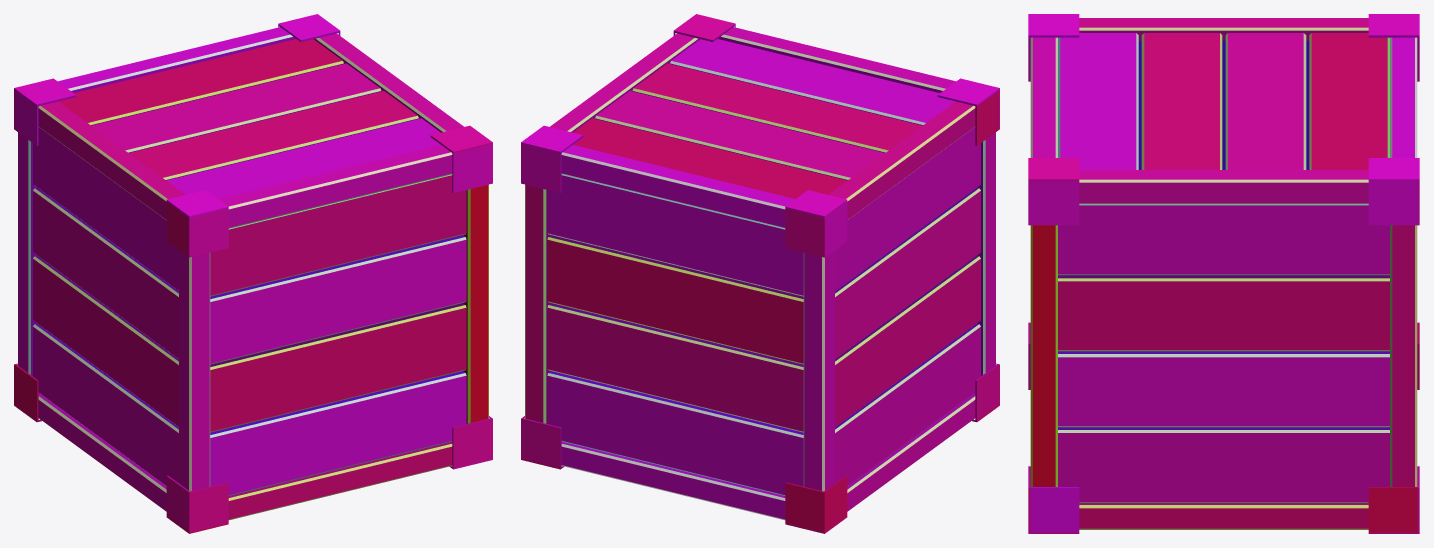
File: crate.glb
3 renders of one model, left to right at view 1: azimuth 30°, elevation 25°; view 2: azimuth 150°, elevation 25°; view 3: azimuth 270°, elevation 25°, orthographic. The views are drawn at different scales.
Parts seen in each view (by area): view 1: crate; view 2: crate; view 3: crate.
Boxes of the visible parts, left/top/right/bottom form: crate: left=14, top=14, right=492, bottom=533; crate: left=521, top=14, right=999, bottom=533; crate: left=1028, top=14, right=1419, bottom=533.
Size of the model in its own units: 1 by 1 by 1.
